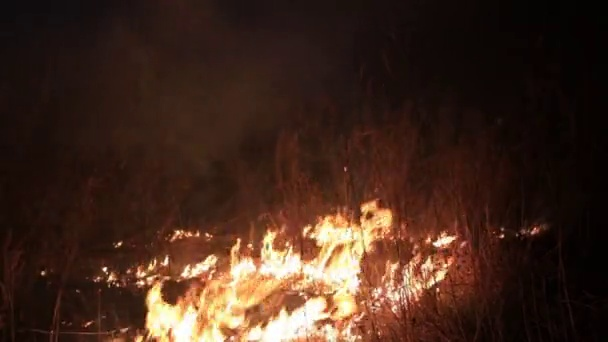fire: (147, 203, 454, 342)
